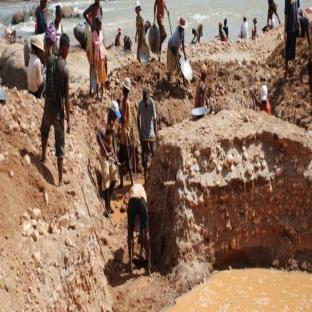Person: (96, 97, 120, 219), (48, 37, 69, 175), (122, 176, 153, 266), (131, 88, 160, 165), (89, 19, 109, 102), (166, 22, 192, 84), (282, 0, 300, 79), (131, 2, 151, 67), (248, 76, 274, 120), (194, 62, 212, 118), (189, 9, 209, 51), (239, 15, 250, 42)
